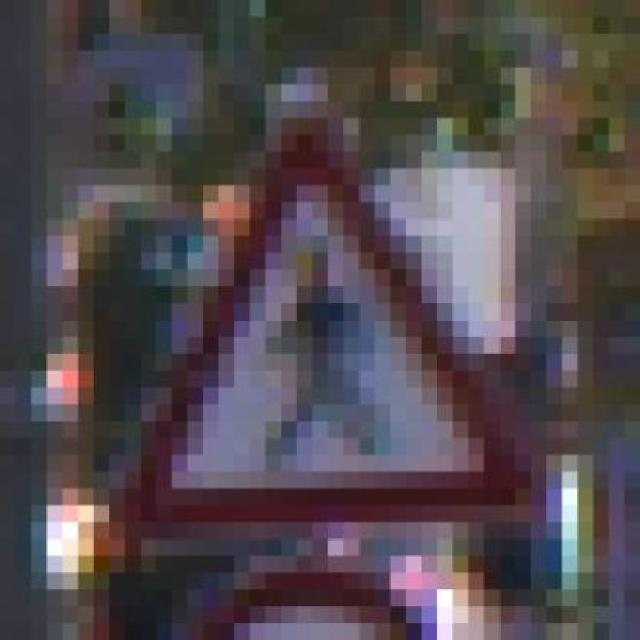Pedestrian Crossing: (109, 118, 546, 522)
